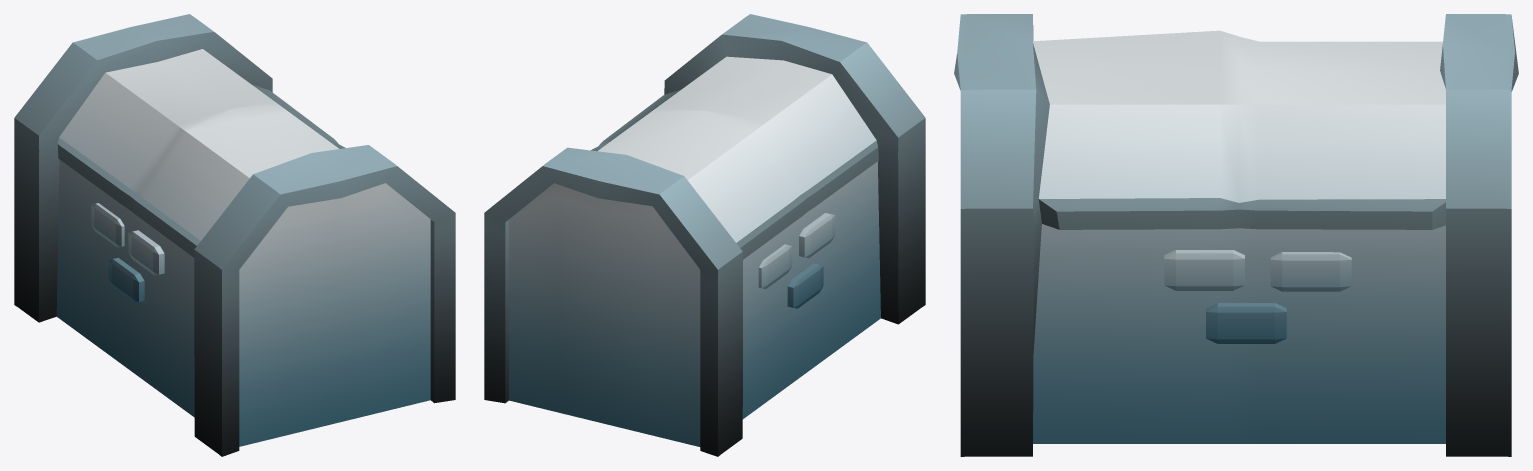
The model's file is Tomb.fbx.
3 views of the same model, side by side, from view 1: azimuth 30°, elevation 25°; view 2: azimuth 150°, elevation 25°; view 3: azimuth 270°, elevation 25° (orthographic). The views are drawn at different scales.
Visible parts, largest first — view 1: TombMesh; view 2: TombMesh; view 3: TombMesh.
Part boxes in pixels (x1,y1,x2,y2): TombMesh: (14,14,455,456); TombMesh: (484,14,925,456); TombMesh: (954,14,1518,456).
Bounding box in the file's own units: 960 × 1002 × 1515.
